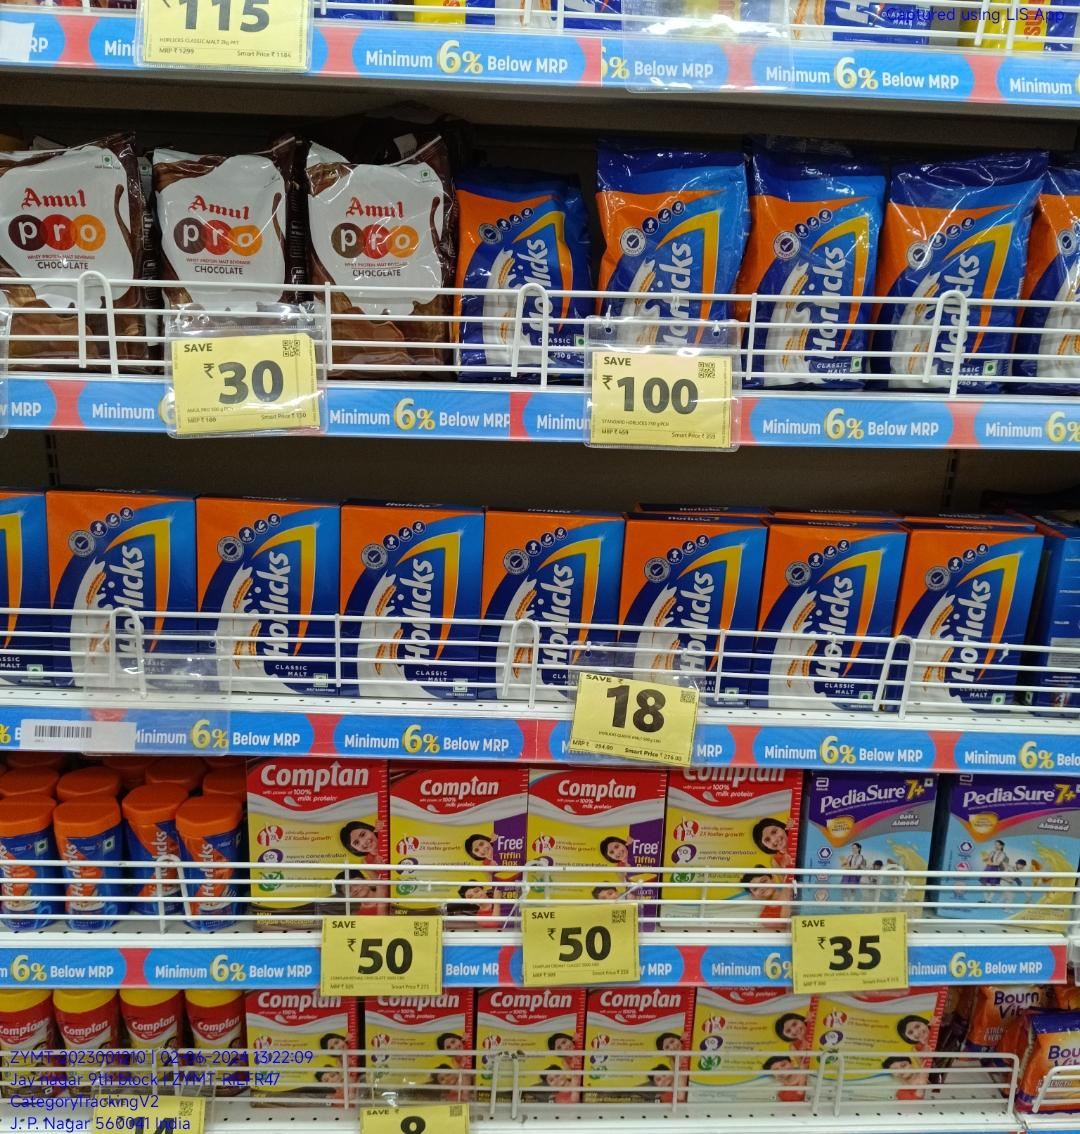HORLICK_CLASSIC_MALT_500_G_PACK: (51, 492, 193, 704), (194, 494, 336, 688), (333, 510, 484, 692), (494, 512, 622, 702), (634, 532, 764, 709), (764, 528, 891, 702), (911, 532, 1034, 708)
